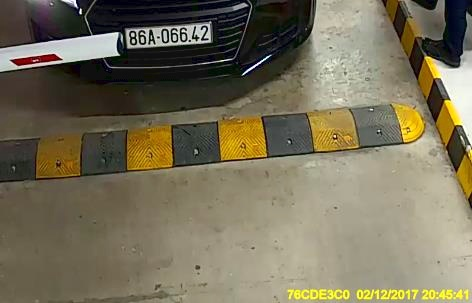plate: (124, 23, 213, 50)
